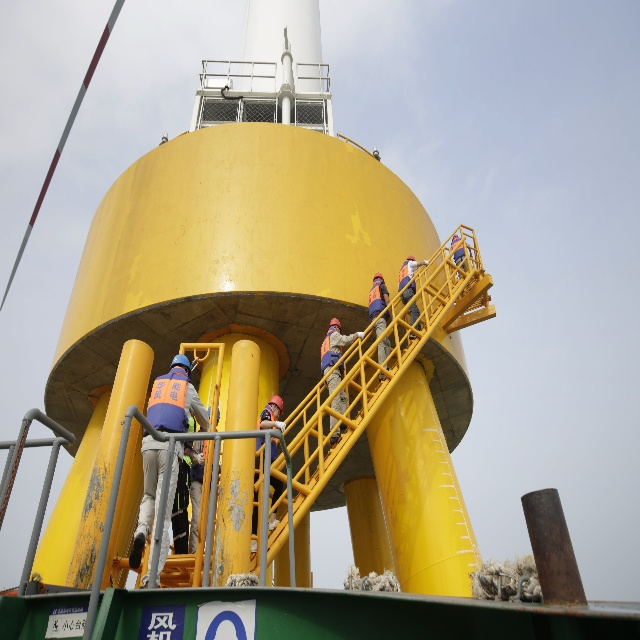Guantes: (274, 420, 286, 432), (197, 452, 205, 466), (356, 331, 366, 342), (424, 259, 429, 266)
